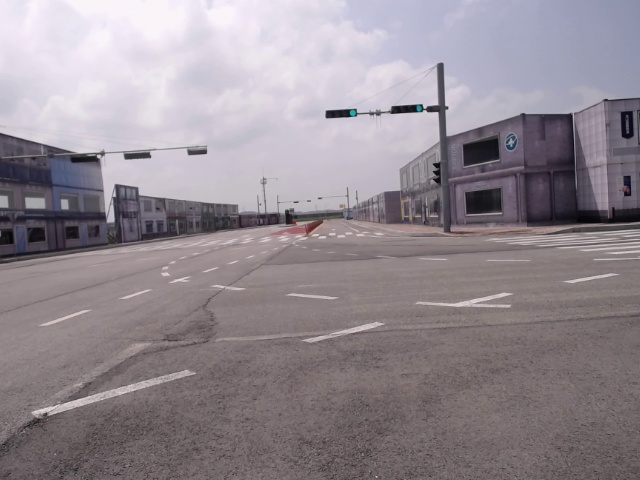straight_green_4: (391, 104, 424, 116), (327, 108, 357, 118)
